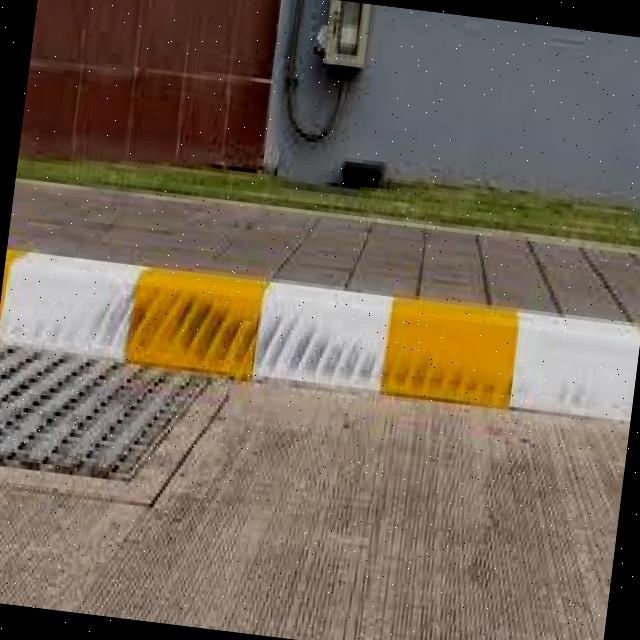curb: (1, 254, 640, 428)
